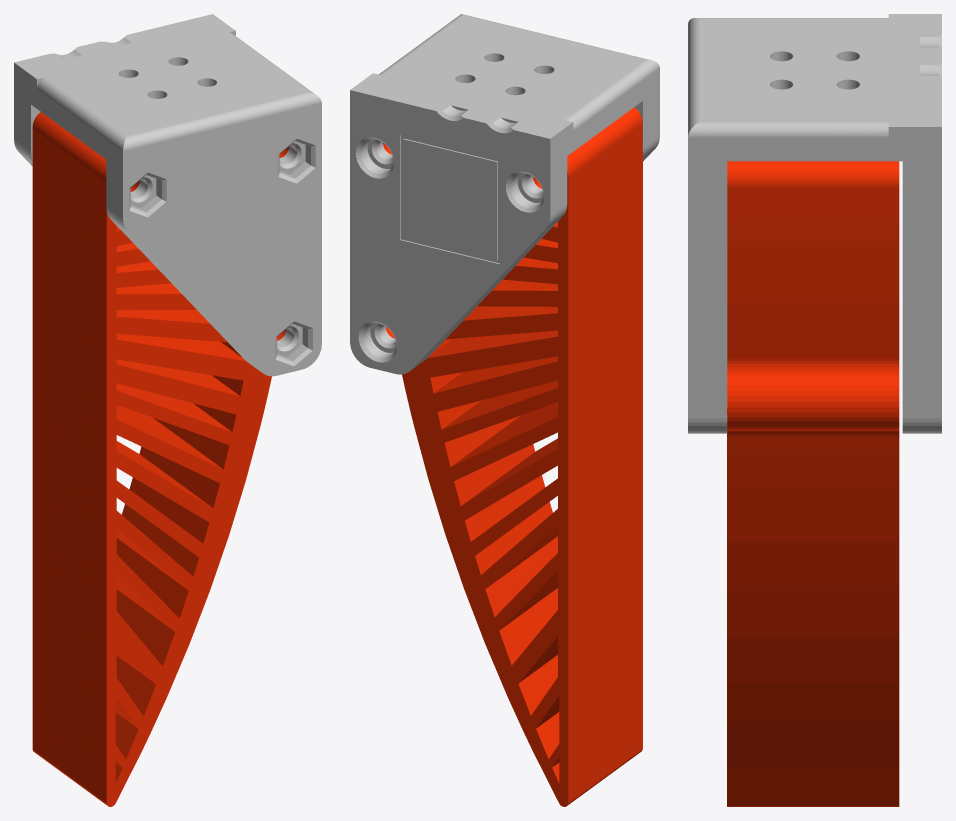
File: gripper.obj
The picture shows the model from 3 angles, left to right: view 1: azimuth 30°, elevation 25°; view 2: azimuth 150°, elevation 25°; view 3: azimuth 270°, elevation 25°; orthographic projection. The views are drawn at different scales.
Visible parts, largest first — view 1: hard_soft_finger_v2, aloha_gripper_connector; view 2: hard_soft_finger_v2, aloha_gripper_connector; view 3: hard_soft_finger_v2, aloha_gripper_connector.
Boxes of the visible parts, box(x1,y1,x2,y2) form: hard_soft_finger_v2: box(32, 112, 288, 806); aloha_gripper_connector: box(14, 14, 321, 376); hard_soft_finger_v2: box(383, 107, 642, 806); aloha_gripper_connector: box(350, 14, 659, 374); hard_soft_finger_v2: box(727, 161, 899, 806); aloha_gripper_connector: box(688, 14, 941, 433).
Bounding box in the file's own units: 40.04 × 130 × 38.
